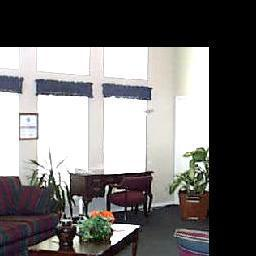Matera: (178, 149, 206, 218)
